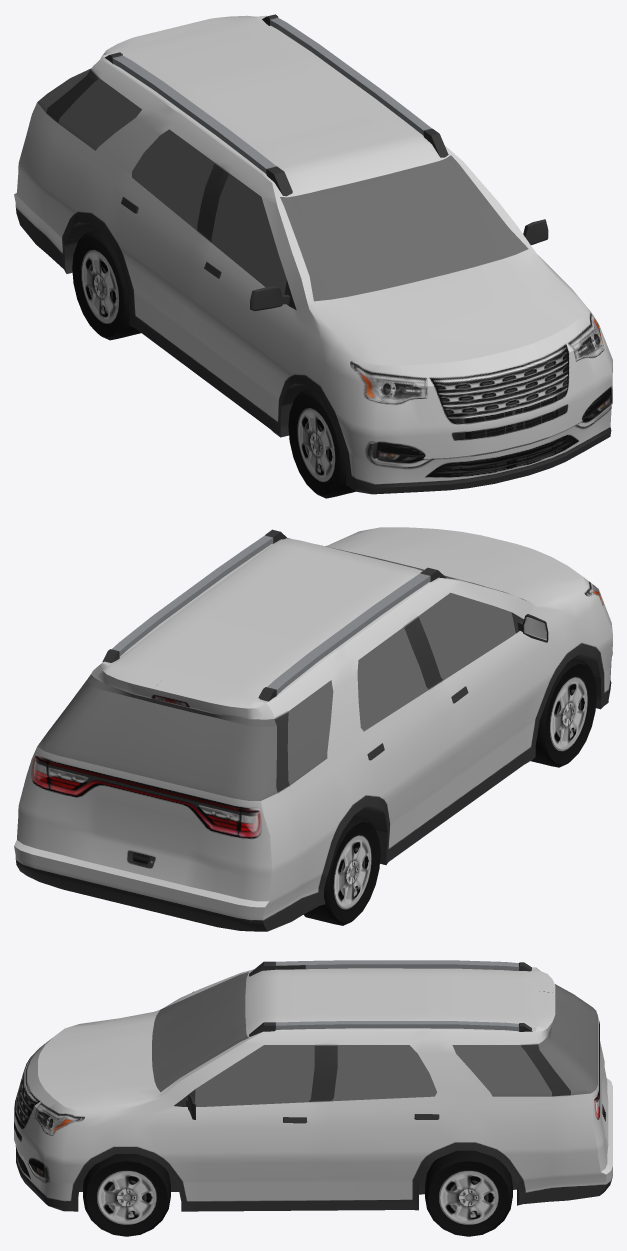
The model's file is adventurer.gltf.
3 views of the same model, one above another, from view 1: azimuth 30°, elevation 25°; view 2: azimuth 150°, elevation 25°; view 3: azimuth 270°, elevation 25° (orthographic). The views are drawn at different scales.
Parts seen in each view (by area): view 1: polySurface12, polySurface5, pCube2, polySurface9, pCylinder3, polySurface8, pCylinder4, polySurface2, polySurface11, pCube1; view 2: polySurface12, polySurface4, pCube2, polySurface9, pCylinder3, pCylinder4, polySurface8, polySurface2, polySurface11, polySurface13, pCube1; view 3: polySurface12, polySurface5, pCylinder2, pCylinder1, polySurface7, polySurface6, pCube2, polySurface4, polySurface3, polySurface11.
Boxes of the visible parts, x1,y1,x2,y2 form: polySurface12: (14,15,612,494); polySurface5: (280,155,528,301); pCube2: (105,14,448,196); polySurface9: (211,173,296,309); pCylinder3: (72,230,140,340); polySurface8: (132,129,214,230); pCylinder4: (288,389,355,498); polySurface2: (58,78,141,150); polySurface11: (64,222,310,437); pCube1: (250,219,548,310); polySurface12: (14,527,612,931); polySurface4: (37,680,277,800); pCube2: (102,529,446,701); polySurface9: (418,592,523,679); pCylinder3: (303,815,380,925); pCylinder4: (531,658,596,767); polySurface8: (357,627,428,731); polySurface2: (287,680,333,785); polySurface11: (354,653,601,864); polySurface13: (87,674,276,726); pCube1: (517,614,548,642); polySurface12: (14,967,612,1211); polySurface5: (152,972,248,1092); pCylinder2: (425,1150,512,1236); pCylinder1: (83,1154,170,1236); polySurface7: (174,1045,314,1106); polySurface6: (332,1045,436,1101); pCube2: (249,960,532,1036); polySurface4: (539,984,597,1095); polySurface3: (452,1045,551,1096); polySurface11: (77,1161,519,1211).
Size of the model in its own units: 2.11 by 1.68 by 4.65.
7 materials, 7 textured.
